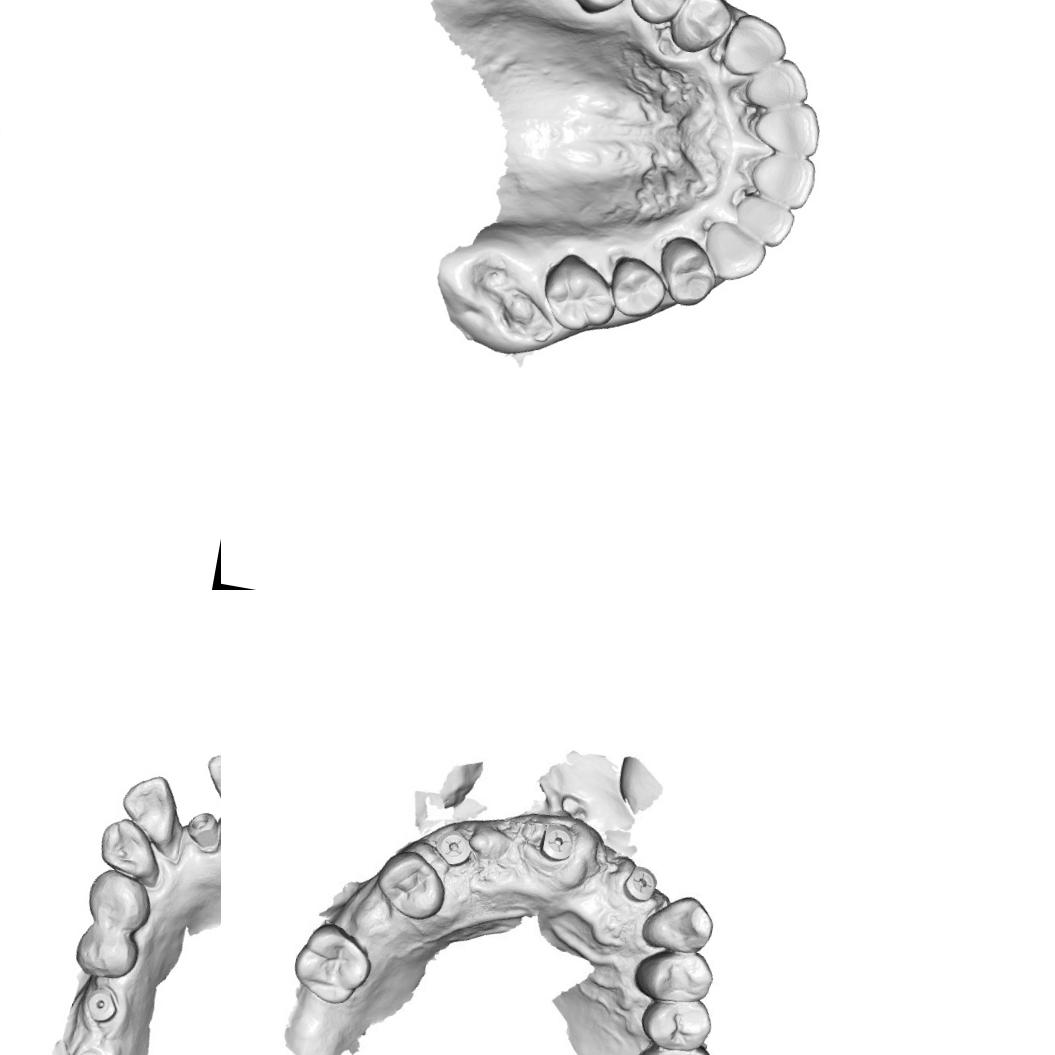canine: (694, 214, 770, 288), (639, 887, 718, 958), (718, 8, 792, 82), (92, 814, 166, 880)
implant: (179, 807, 221, 852), (80, 980, 123, 1021), (66, 1036, 108, 1055)
implant_plus: (614, 858, 664, 908), (530, 823, 577, 866), (435, 828, 478, 872)
incisor: (740, 145, 821, 212), (740, 50, 818, 118), (114, 769, 182, 847), (746, 94, 826, 160), (728, 192, 801, 252), (195, 745, 221, 820)
molar: (284, 916, 376, 1008), (535, 247, 622, 337), (560, 0, 645, 22)
premolar: (371, 842, 453, 926), (628, 942, 718, 1014), (651, 232, 722, 312), (634, 993, 722, 1055), (602, 249, 672, 323), (664, 0, 738, 60), (84, 870, 151, 934), (70, 925, 144, 979), (627, 0, 694, 31)
